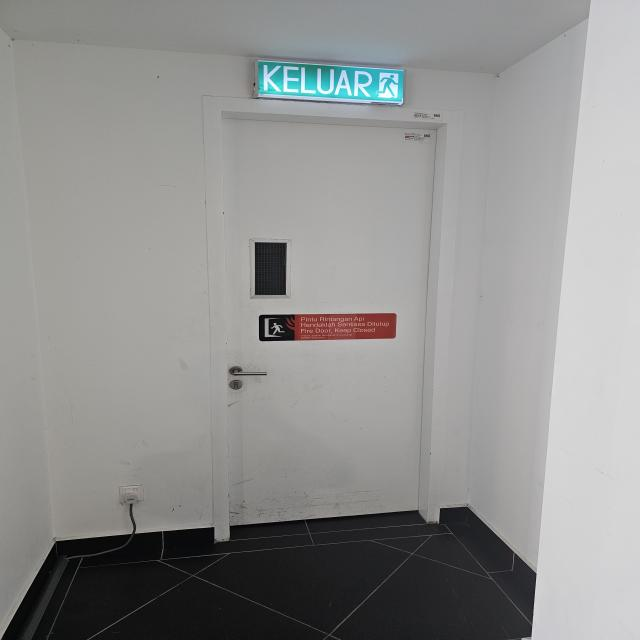door: (217, 112, 438, 530)
footpath: (20, 506, 536, 638)
